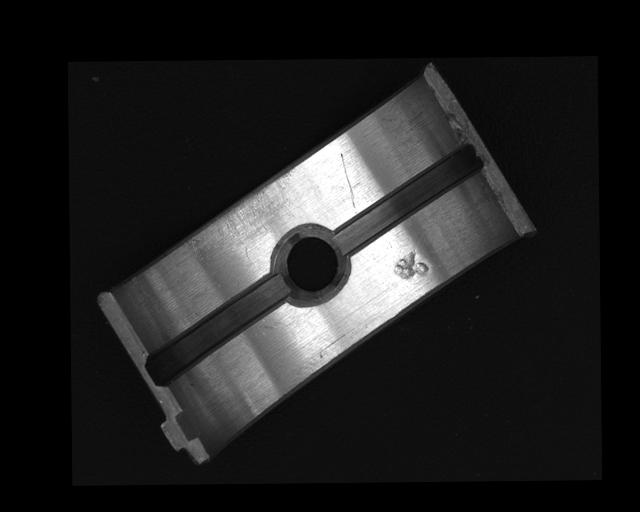bruise: (391, 245, 431, 280)
gap: (143, 273, 293, 385), (332, 145, 483, 252)
hole: (271, 226, 350, 308)
nick: (339, 152, 357, 210)
scratch: (180, 167, 298, 266)
